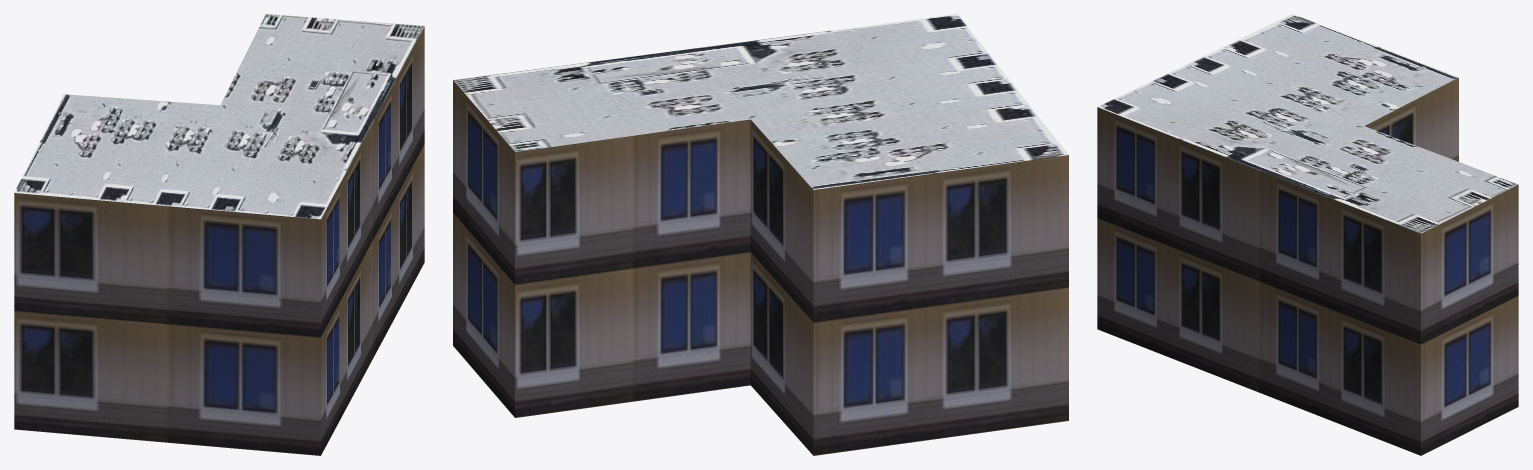
Rendered from ResTex__4236.fbx.
The picture shows the model from 3 angles, left to right: view 1: azimuth 30°, elevation 25°; view 2: azimuth 150°, elevation 25°; view 3: azimuth 270°, elevation 25°; orthographic projection. The views are drawn at different scales.
Visible parts, largest first — view 1: CityEngineMaterial_5_m, CityEngineMaterial_4_m; view 2: CityEngineMaterial_5_m, CityEngineMaterial_4_m; view 3: CityEngineMaterial_5_m, CityEngineMaterial_4_m.
Boxes of the visible parts, left/top/right/bottom form: CityEngineMaterial_5_m: left=14, top=26, right=424, bottom=455; CityEngineMaterial_4_m: left=14, top=14, right=424, bottom=219; CityEngineMaterial_5_m: left=453, top=80, right=1068, bottom=455; CityEngineMaterial_4_m: left=453, top=14, right=1068, bottom=189; CityEngineMaterial_5_m: left=1097, top=77, right=1518, bottom=455; CityEngineMaterial_4_m: left=1098, top=14, right=1518, bottom=233.
Bounding box in the file's own units: 12.72 × 6 × 10.31.
2 materials, 2 textured.
